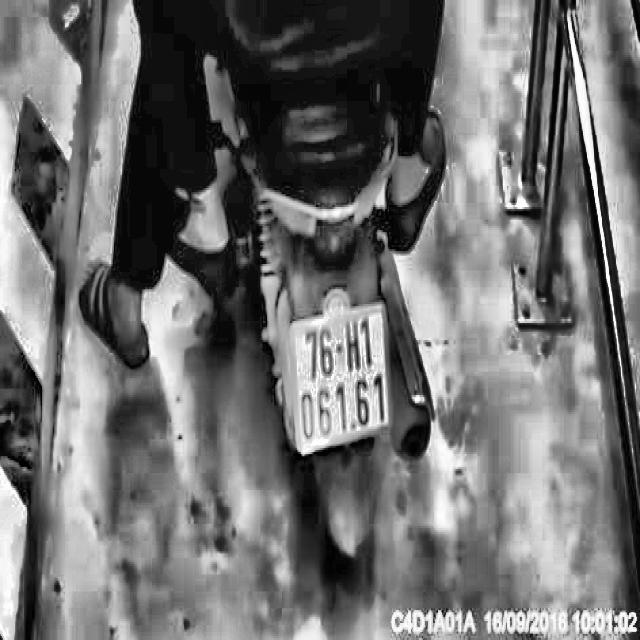plate: (283, 304, 397, 457)
